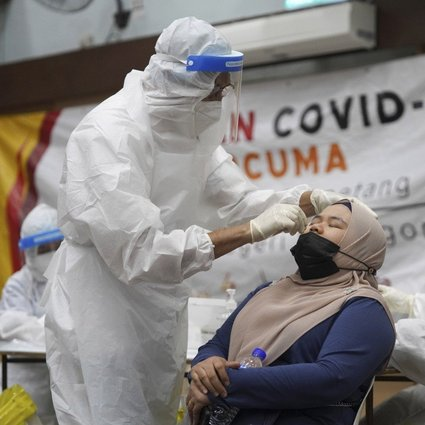Coverall: (32, 12, 311, 425), (2, 209, 90, 425)
Face_Shield: (173, 42, 251, 154), (10, 221, 70, 283)
Gloves: (248, 198, 312, 251)
mask_weared_incorrect: (291, 212, 347, 284)
with_mask: (190, 82, 225, 141), (35, 241, 65, 278)
